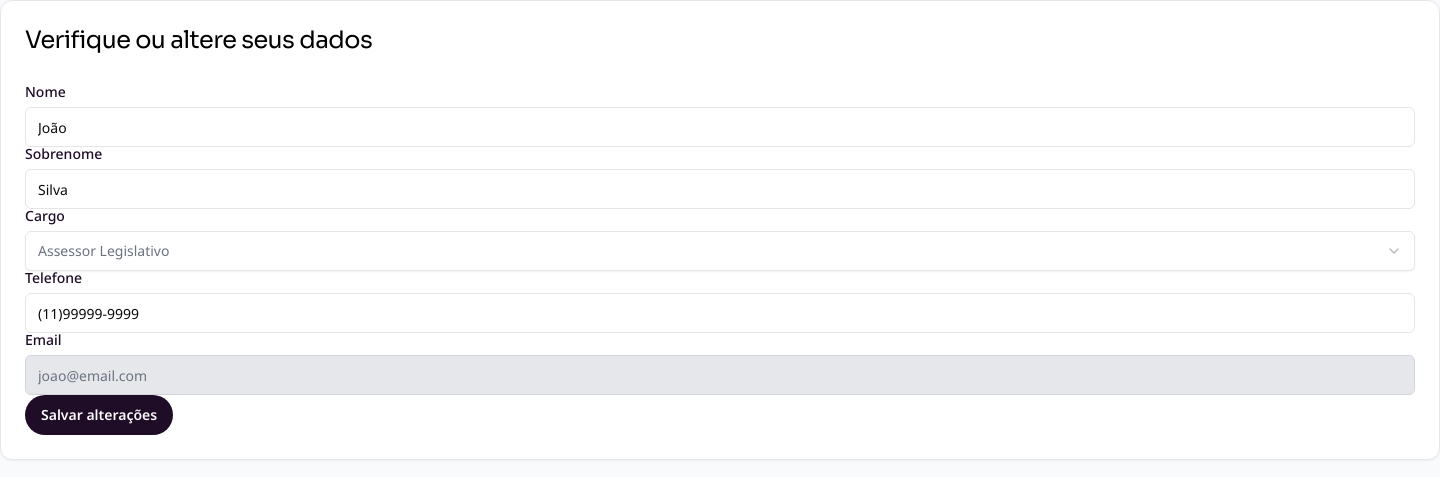
Scenario: ConfigurarConta › Loading state › deve desabilitar o botão durante o submit
Click the button "Salvar alterações" at (99, 415), box 25,395 -> 173,435
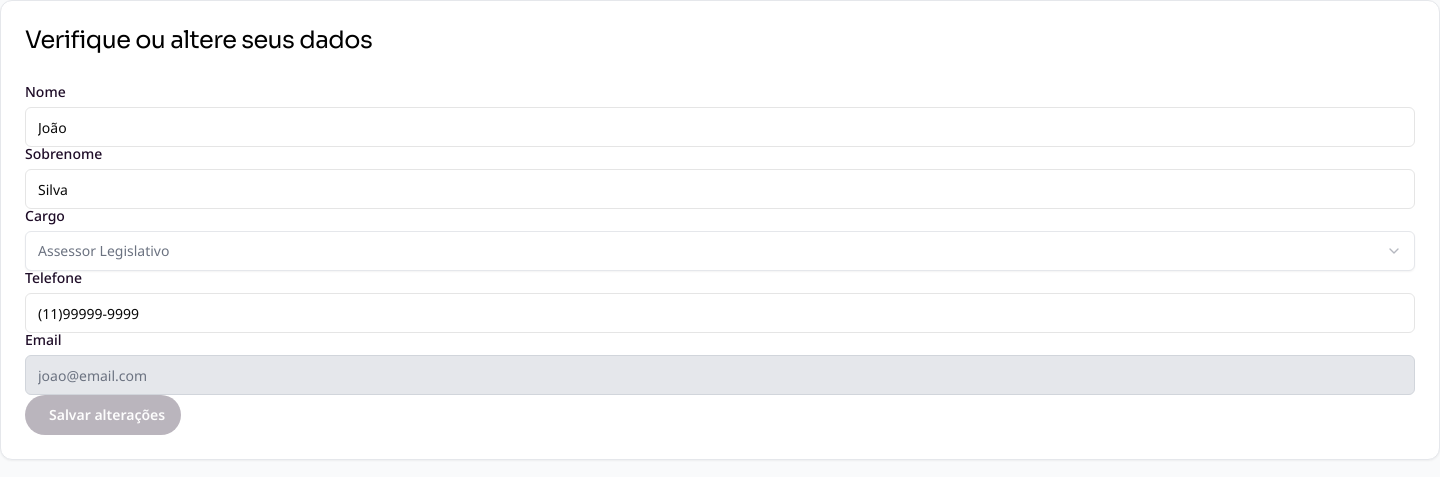
Expected: the button "Salvar alterações" is disabled, 25,395 -> 181,435
